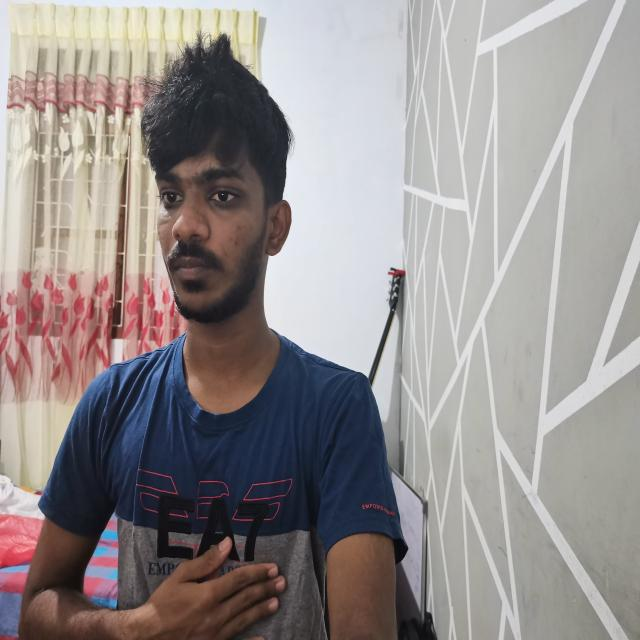Please: (0, 522, 283, 640)
